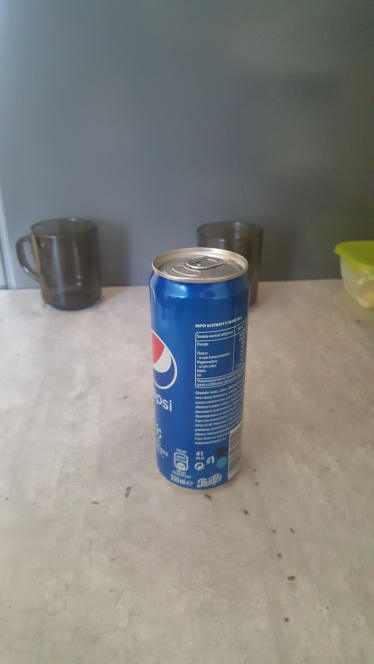pepsi: (141, 241, 255, 493)
